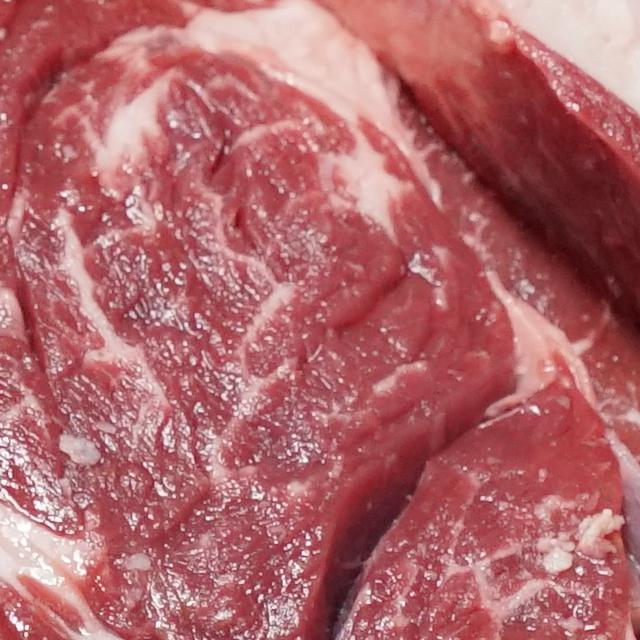beef: (0, 0, 514, 640), (216, 0, 640, 640)
